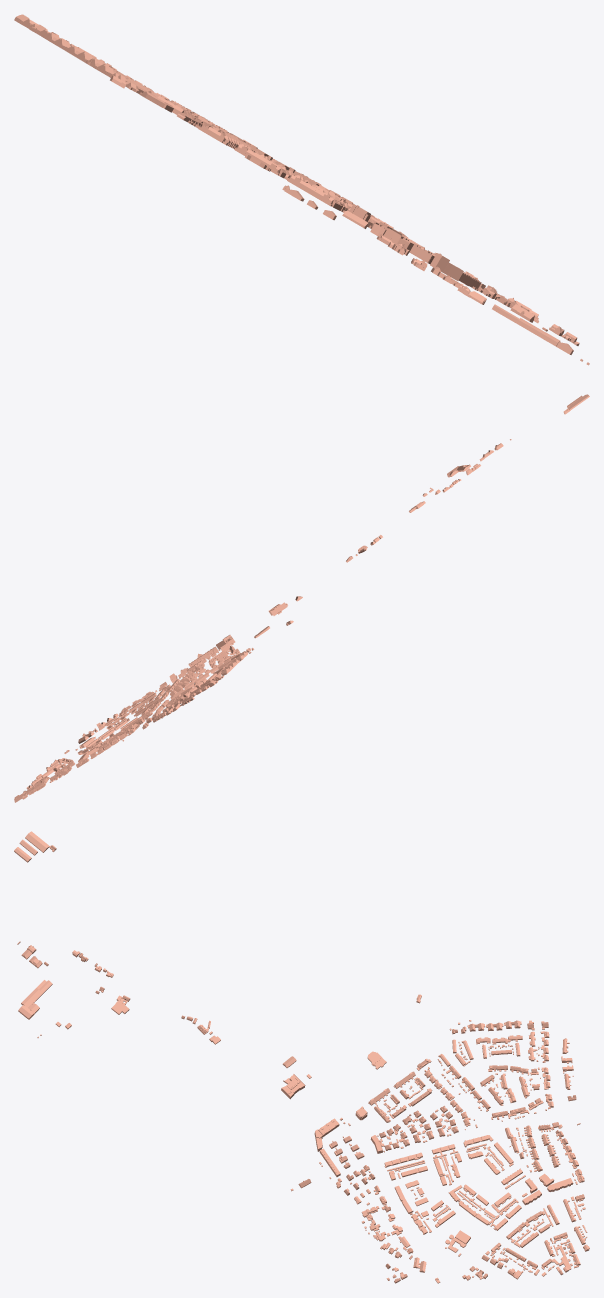
The picture shows the model from 3 angles, top to bottom: view 1: azimuth 30°, elevation 25°; view 2: azimuth 150°, elevation 25°; view 3: azimuth 270°, elevation 25°; orthographic projection. The views are drawn at different scales.
Size of the model in its own units: 838 by 711 by 1265.
